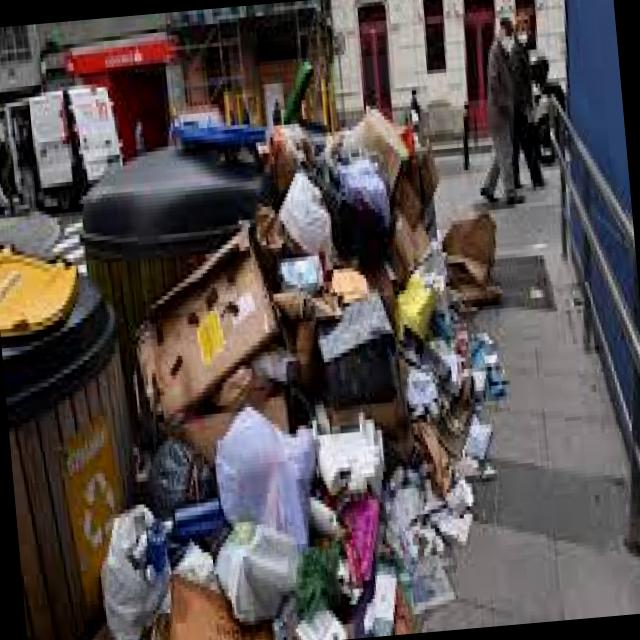garbage: (0, 89, 531, 640)
